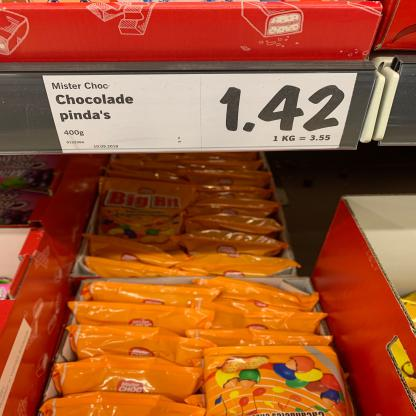prtg: (43, 74, 358, 155)
